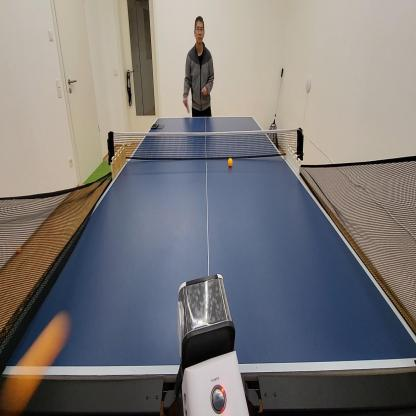Ball: (0, 311, 70, 416), (227, 157, 233, 167), (16, 244, 22, 254)
